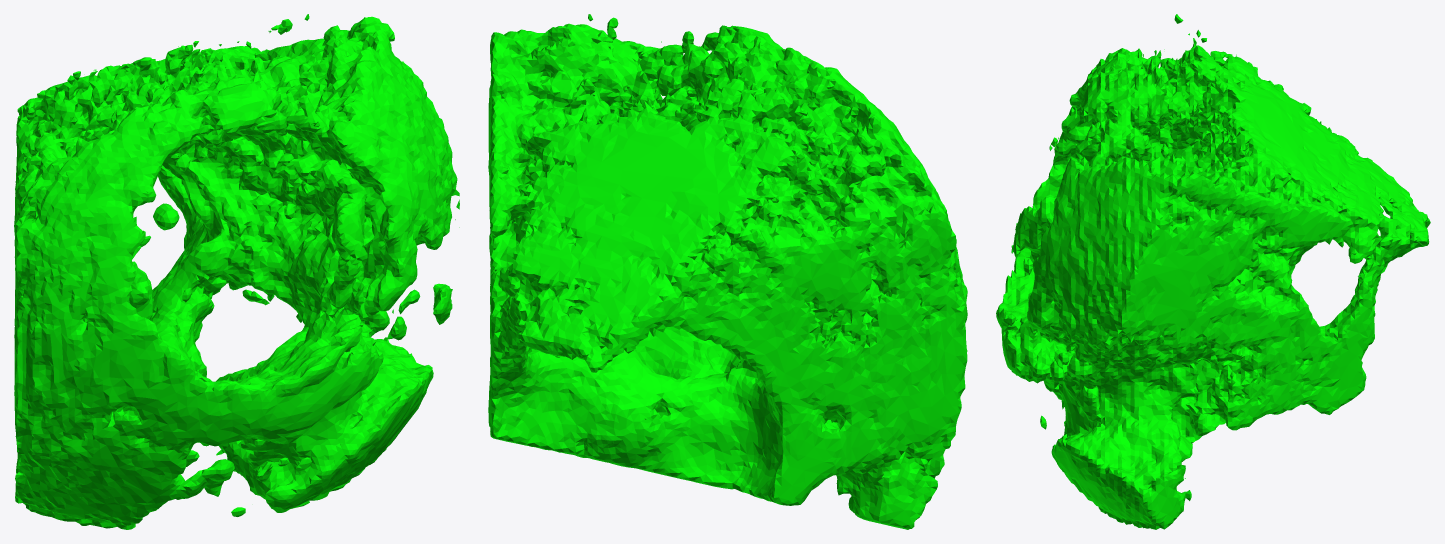
File: B939XXXX-1_base_4.obj
3 views of the same model, side by side, from view 1: azimuth 30°, elevation 25°; view 2: azimuth 150°, elevation 25°; view 3: azimuth 270°, elevation 25° (orthographic). The views are drawn at different scales.
Visible parts, largest first — view 1: 4_base; view 2: 4_base; view 3: 4_base.
Boxes of the visible parts, box(x1,y1,x2,y2) form: 4_base: box(14, 14, 459, 529); 4_base: box(488, 14, 967, 529); 4_base: box(996, 14, 1430, 529).
Bounding box in the file's own units: 219 × 216 × 205.
